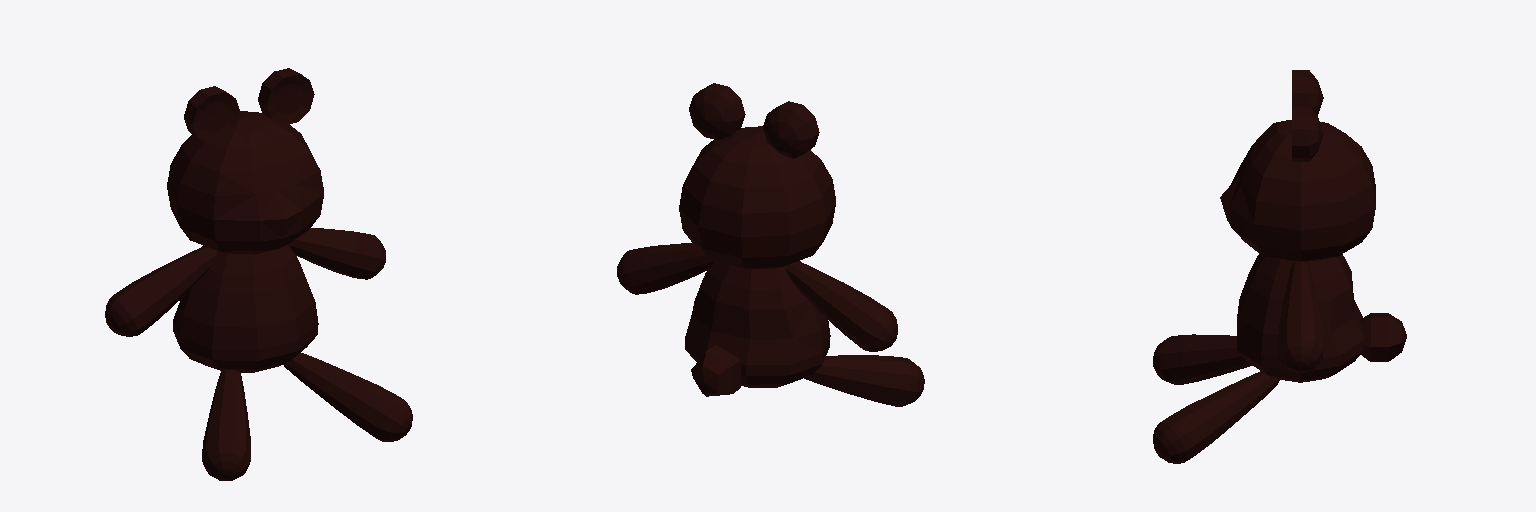
The model's file is playerBears.obj.
The picture shows the model from 3 angles: view 1: azimuth 30°, elevation 25°; view 2: azimuth 150°, elevation 25°; view 3: azimuth 270°, elevation 25°; orthographic projection.
Visible parts, largest first — view 1: default; view 2: default; view 3: default.
Part boxes in pixels (x1,y1,x2,y2): default: (105,68,412,480); default: (617,83,924,406); default: (1153,70,1406,463).
Size of the model in its own units: 4.02 by 4.61 by 3.22.